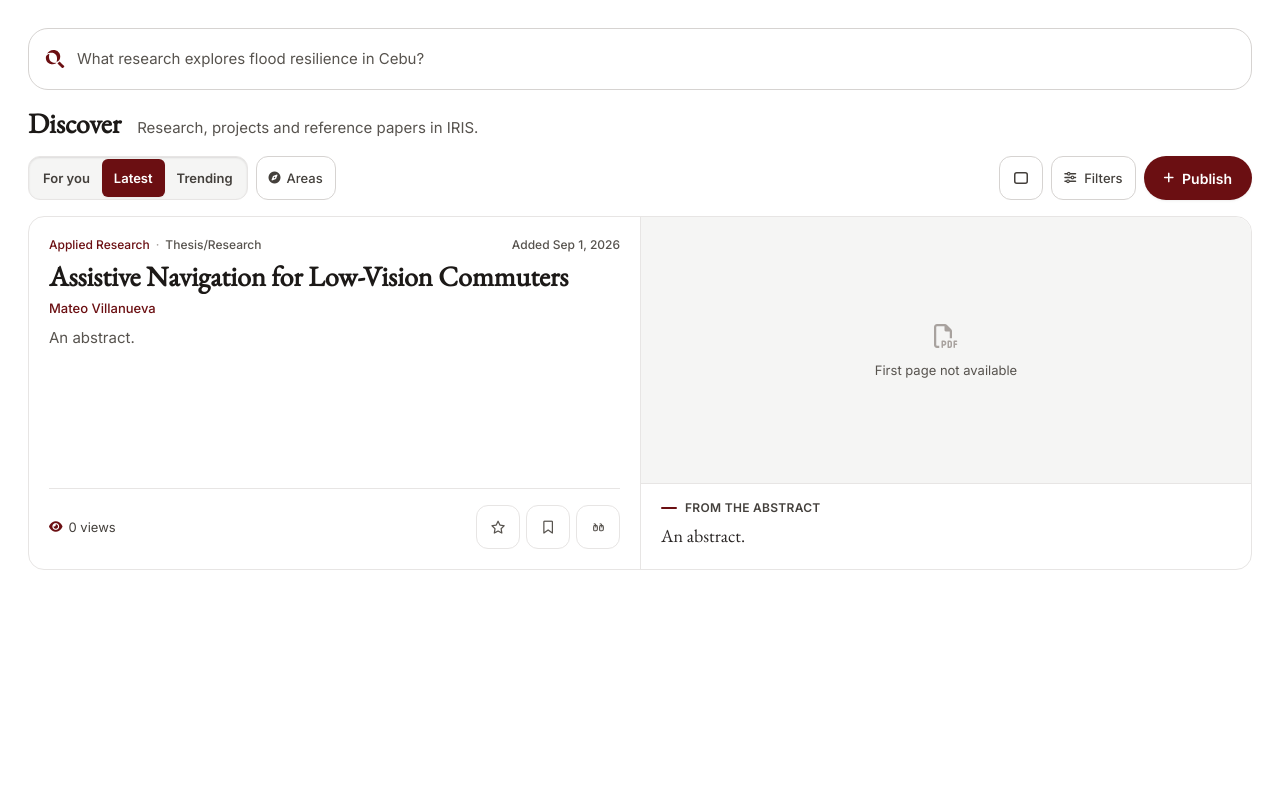
Test case: browsing › offers personalized results with the API explanation
Check: the link "Assistive Navigation for Low-Vision Commuters" is shown, box [49,259,568,294]
Click the button "For you" at {"x": 66, "y": 178}, box [31,159,102,197]
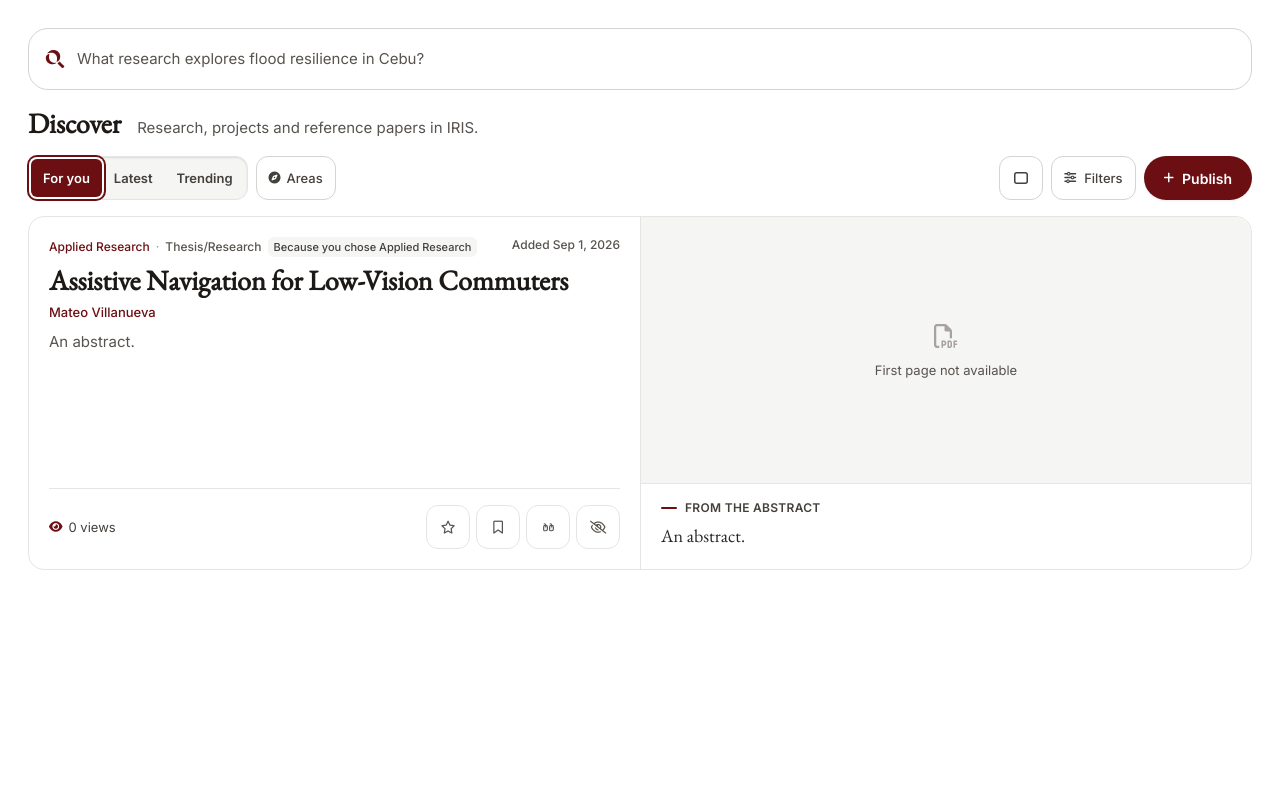
Check: the text "Because you chose Applied Research" is shown, box [268,237,477,257]
